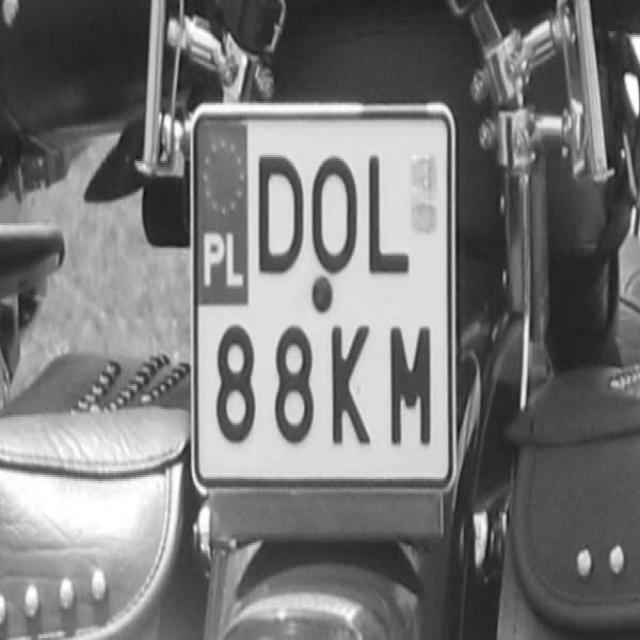License_Plate: (194, 118, 448, 475)
